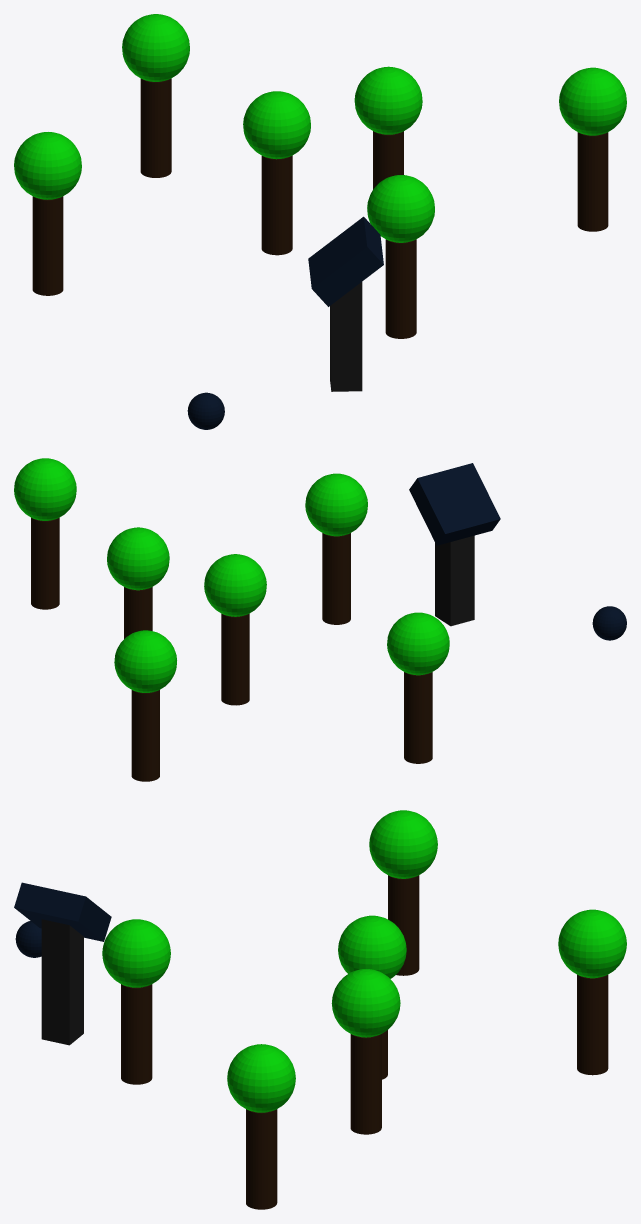
Rendered from exercise20099.obj.
3 views of the same model, one above another, from view 1: azimuth 30°, elevation 25°; view 2: azimuth 150°, elevation 25°; view 3: azimuth 270°, elevation 25° (orthographic). The views are drawn at different scales.
Parts seen in each view (by area): view 1: Cube.001, Sphere.005, Sphere.006, Sphere, Sphere.002, Sphere.003, Sphere.004, Cube, Cylinder.006, Cylinder.003, Cylinder.004, Cylinder.002 (+4 smaller); view 2: Cube.001, Cube, Sphere.006, Sphere, Sphere.003, Sphere.004, Sphere.002, Sphere.005, Cylinder.002, Cylinder.003, Cylinder.005, Cylinder.006 (+4 smaller); view 3: Cube, Sphere.005, Sphere.003, Sphere.004, Sphere, Sphere.006, Sphere.002, Cube.001, Cylinder.004, Cylinder.003, Cylinder.005, Cylinder (+3 smaller).
Boxes of the visible parts, x1,y1,x2,y2 form: Cube.001: (308, 216, 383, 306); Sphere.005: (122, 14, 189, 81); Sphere.006: (14, 132, 81, 199); Sphere: (354, 66, 422, 134); Sphere.002: (243, 91, 310, 159); Sphere.003: (559, 67, 626, 135); Sphere.004: (367, 175, 434, 242); Cube: (330, 282, 362, 391); Cylinder.006: (32, 196, 63, 295); Cylinder.003: (577, 132, 608, 231); Cylinder.004: (385, 239, 416, 338); Cylinder.002: (261, 155, 292, 255); Cube.001: (409, 463, 500, 545); Cube: (435, 535, 474, 626); Sphere.006: (387, 612, 449, 675); Sphere: (107, 527, 169, 590); Sphere.003: (14, 458, 76, 520); Sphere.004: (305, 473, 367, 536); Sphere.002: (204, 554, 266, 616); Sphere.005: (114, 630, 176, 692); Cylinder.002: (221, 613, 249, 705); Cylinder.003: (31, 517, 59, 609); Cylinder.005: (131, 690, 159, 781); Cylinder.006: (404, 672, 432, 763); Cube: (41, 919, 83, 1045); Sphere.005: (558, 909, 626, 978); Sphere.003: (227, 1044, 295, 1112); Sphere.004: (102, 919, 170, 987); Sphere: (331, 969, 400, 1037); Sphere.006: (369, 810, 437, 878); Sphere.002: (338, 915, 406, 978); Cube.001: (14, 882, 111, 941); Cylinder.004: (121, 984, 152, 1084); Cylinder.003: (246, 1109, 277, 1209); Cylinder.005: (577, 974, 608, 1075); Cylinder: (350, 1034, 381, 1133).
Size of what is drawn, in the model's own units: 40.53 by 11.23 by 39.13.
